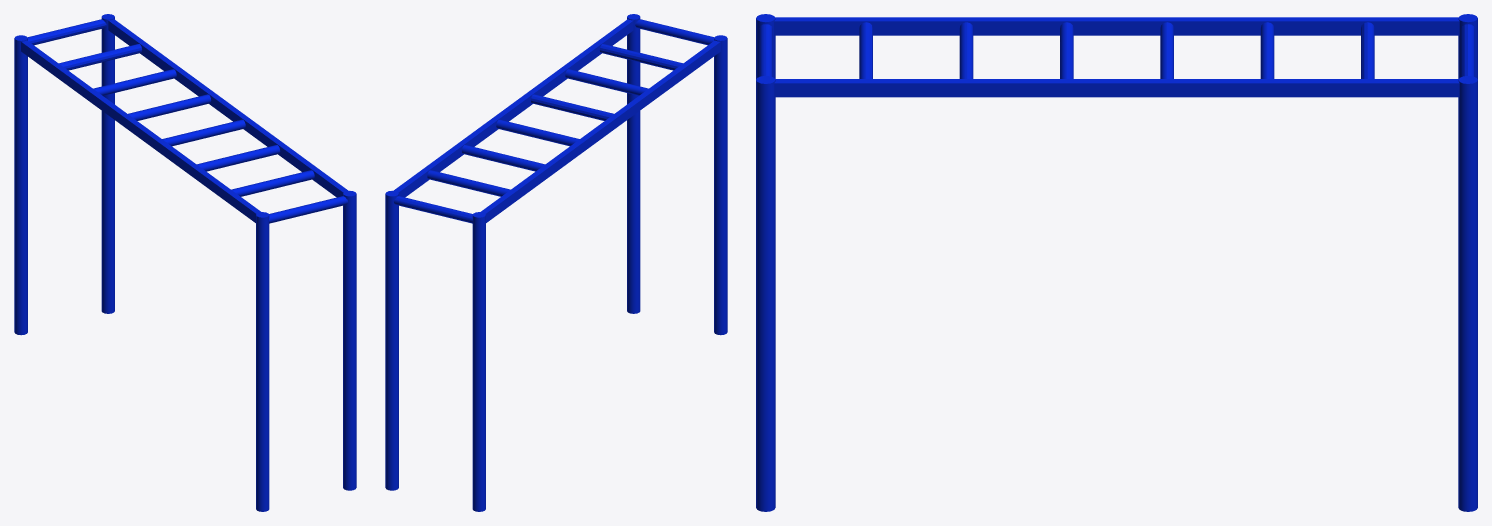
File: monkeyBars.fbx
3 renders of one model, left to right at view 1: azimuth 30°, elevation 25°; view 2: azimuth 150°, elevation 25°; view 3: azimuth 270°, elevation 25°, orthographic. The views are drawn at different scales.
Visible parts, largest first — view 1: bars, bars_grab_cylinder.016, bars_rigid_convex.001, bars_rigid_convex.013, bars_rigid_convex.007, bars_grab_cylinder.008, bars_rigid_convex.014, bars_rigid_convex.008, bars_grab_cylinder.010, bars_grab_cylinder.009, bars_grab_cylinder.001, bars_rigid_convex.010 (+5 smaller); view 2: bars, bars_rigid_convex.008, bars_rigid_convex.001, bars_rigid_convex.007, bars_rigid_convex.006, bars_grab_cylinder.004, bars_grab_cylinder.006, bars_rigid_convex.005, bars_rigid_convex.004, bars_grab_cylinder.008, bars_rigid_convex.002, bars_grab_cylinder; view 3: bars, bars_rigid_convex.001, bars_rigid_convex.007, bars_grab_cylinder.010, bars_grab_cylinder.016, bars_rigid_convex.008.
Part boxes in pixels (<box>): bars: <box>14,17,355,511</box>; bars_grab_cylinder.016: <box>343,194,356,490</box>; bars_rigid_convex.001: <box>108,19,348,197</box>; bars_rigid_convex.013: <box>15,39,26,335</box>; bars_rigid_convex.007: <box>21,40,260,222</box>; bars_grab_cylinder.008: <box>257,215,269,486</box>; bars_rigid_convex.014: <box>102,15,112,313</box>; bars_rigid_convex.008: <box>343,190,356,489</box>; bars_grab_cylinder.010: <box>101,14,114,313</box>; bars_grab_cylinder.009: <box>14,35,27,334</box>; bars_grab_cylinder.001: <box>59,44,141,70</box>; bars_rigid_convex.010: <box>232,170,314,196</box>; bars: <box>385,17,727,511</box>; bars_rigid_convex.008: <box>627,14,640,313</box>; bars_rigid_convex.001: <box>393,19,633,197</box>; bars_rigid_convex.007: <box>483,40,720,221</box>; bars_rigid_convex.006: <box>714,35,727,333</box>; bars_grab_cylinder.004: <box>530,94,613,120</box>; bars_grab_cylinder.006: <box>600,44,682,70</box>; bars_rigid_convex.005: <box>496,121,578,146</box>; bars_rigid_convex.004: <box>462,146,542,171</box>; bars_grab_cylinder.008: <box>714,38,727,335</box>; bars_rigid_convex.002: <box>394,198,472,223</box>; bars_grab_cylinder: <box>395,196,472,219</box>; bars: <box>756,14,1477,511</box>; bars_rigid_convex.001: <box>774,79,1459,97</box>; bars_rigid_convex.007: <box>774,17,1459,35</box>; bars_grab_cylinder.010: <box>1458,76,1477,511</box>; bars_grab_cylinder.016: <box>756,80,770,511</box>; bars_rigid_convex.008: <box>756,76,775,511</box>.
Bounding box in the file's own units: 98.73 × 281 × 430.
